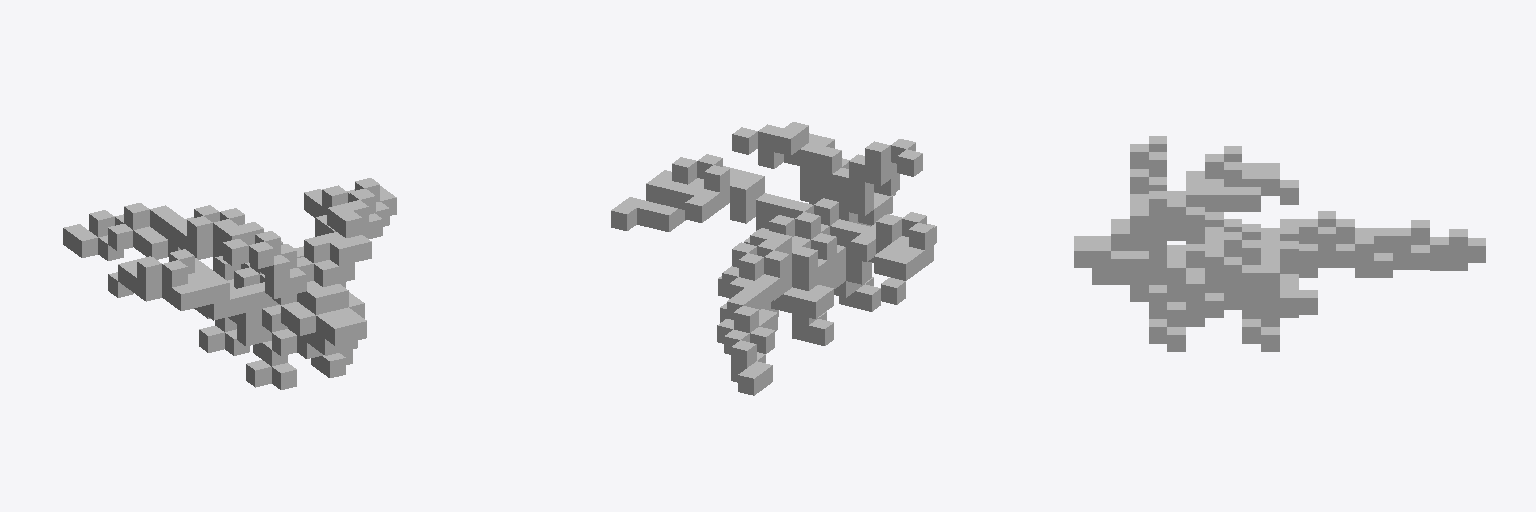
Rendered from Dragon.obj.
3 renders of one model, left to right at view 1: azimuth 30°, elevation 25°; view 2: azimuth 150°, elevation 25°; view 3: azimuth 270°, elevation 25°, orthographic.
Parts seen in each view (by area): view 1: GnomeWarriorDetailed; view 2: GnomeWarriorDetailed; view 3: GnomeWarriorDetailed.
Part boxes in pixels (x1,y1,x2,y2): GnomeWarriorDetailed: (63, 178, 396, 389); GnomeWarriorDetailed: (611, 122, 936, 395); GnomeWarriorDetailed: (1074, 136, 1485, 351).
Bounding box in the file's own units: 1.7 × 0.9 × 2.2.